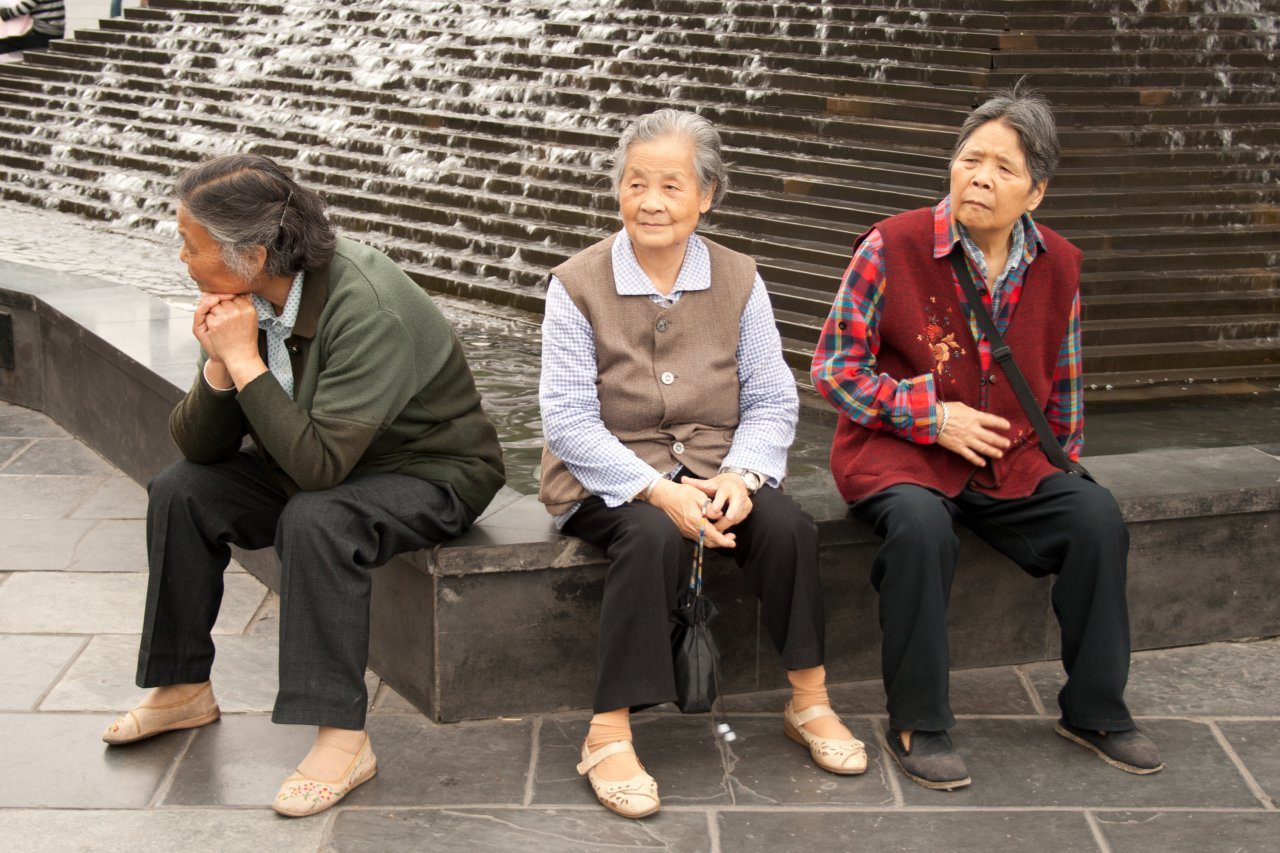Person: (799, 72, 1206, 815), (90, 149, 518, 847), (502, 94, 886, 803)
